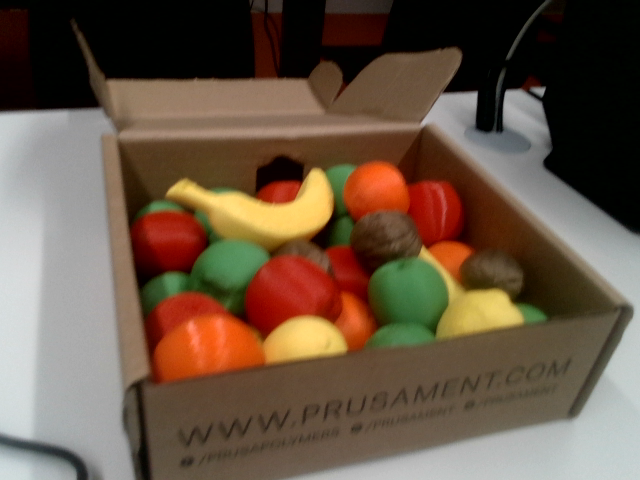Banana: (167, 168, 333, 251)
Crvena jabuka: (246, 256, 341, 336), (145, 291, 227, 353), (131, 212, 207, 278), (408, 180, 464, 246), (326, 245, 370, 301), (256, 180, 301, 202)
Limun: (436, 288, 524, 338), (264, 315, 347, 363)
Naranca: (152, 314, 265, 382), (343, 161, 409, 220), (335, 292, 377, 350), (428, 240, 474, 281)
Orah: (350, 211, 422, 272), (460, 250, 522, 299), (272, 239, 333, 275)
Zelena jabuka: (191, 240, 269, 316), (369, 257, 448, 332), (140, 271, 189, 316), (365, 323, 434, 348), (325, 164, 355, 216), (133, 199, 185, 222), (326, 216, 354, 246), (196, 211, 220, 242), (516, 302, 547, 323), (210, 186, 234, 193)
